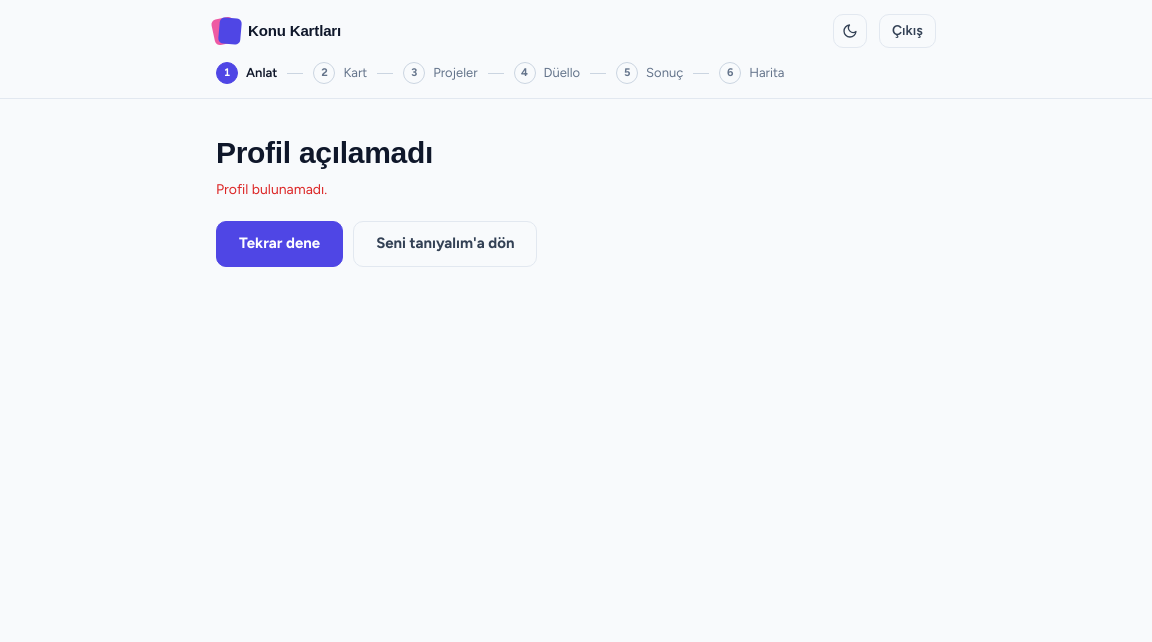
Test case: Profil onayı › profil bulunamazsa (404) mesaj gösterir, "Seni tanıyalım"a dönülebilir
The image size is (1152, 642).
Check: the heading "Profil açılamadı" is shown, box x1=216 y1=136 x2=433 y2=169
Check: the message reads "Profil bulunamadı.", box x1=216 y1=181 x2=327 y2=198
Click the button "Seni tanıyalım'a dön" at (445, 244), box x1=353 y1=221 x2=538 y2=267
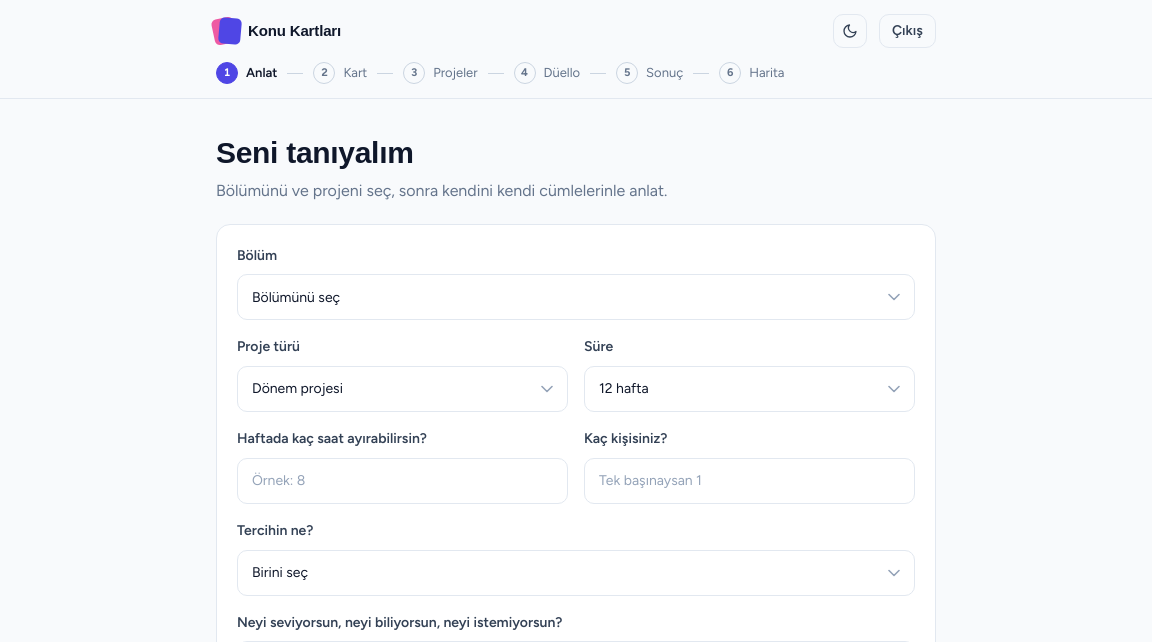
Check: the heading "Seni tanıyalım" is shown, box x1=216 y1=136 x2=414 y2=169
